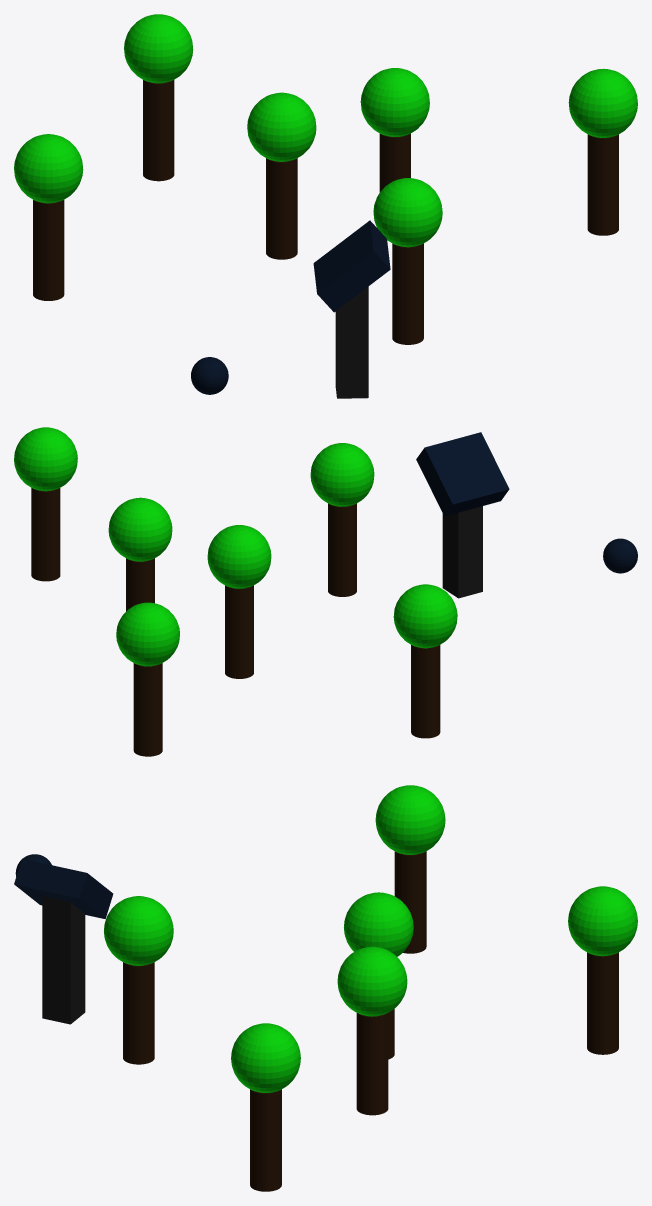
Rendered from exercise20049.obj.
The picture shows the model from 3 angles, top to bottom: view 1: azimuth 30°, elevation 25°; view 2: azimuth 150°, elevation 25°; view 3: azimuth 270°, elevation 25°; orthographic projection. The views are drawn at different scales.
Parts seen in each view (by area): view 1: Cube.001, Sphere.005, Sphere.002, Sphere.006, Sphere, Sphere.003, Sphere.004, Cube, Cylinder.002, Cylinder.003, Cylinder.005, Cylinder.004 (+4 smaller); view 2: Cube.001, Cube, Sphere, Sphere.005, Sphere.006, Sphere.003, Sphere.004, Sphere.002, Cylinder.003, Cylinder.005, Cylinder.006, Cylinder.002 (+4 smaller); view 3: Cube, Sphere, Sphere.006, Sphere.004, Sphere.005, Sphere.003, Sphere.002, Cube.001, Cylinder.004, Cylinder.003, Cylinder.005, Cylinder (+2 smaller).
Part boxes in pixels (box(x1,y1,x2,y2)): Cube.001: box(313, 220, 390, 312); Sphere.005: box(124, 14, 193, 83); Sphere.002: box(247, 92, 316, 161); Sphere.006: box(14, 134, 83, 203); Sphere: box(360, 68, 429, 136); Sphere.003: box(568, 68, 637, 137); Sphere.004: box(373, 178, 442, 247); Cube: box(335, 286, 368, 398); Cylinder.002: box(266, 158, 297, 259); Cylinder.003: box(587, 134, 618, 235); Cylinder.005: box(143, 80, 174, 181); Cylinder.004: box(392, 243, 423, 344); Cube.001: box(416, 432, 509, 516); Cube: box(442, 506, 482, 598); Sphere: box(108, 497, 172, 561); Sphere.005: box(116, 602, 179, 666); Sphere.006: box(393, 584, 457, 648); Sphere.003: box(14, 427, 77, 491); Sphere.004: box(310, 443, 374, 506); Sphere.002: box(207, 525, 271, 588); Cylinder.003: box(31, 488, 60, 581); Cylinder.005: box(133, 663, 162, 756); Cylinder.006: box(411, 645, 440, 738); Cylinder.002: box(225, 585, 253, 678); Cube: box(42, 896, 85, 1024); Sphere: box(337, 946, 407, 1016); Sphere.006: box(375, 785, 445, 854); Sphere.004: box(104, 896, 173, 965); Sphere.005: box(568, 886, 637, 956); Sphere.003: box(231, 1023, 300, 1092); Sphere.002: box(344, 892, 413, 956); Cube.001: box(14, 859, 113, 919); Cylinder.004: box(123, 962, 154, 1064); Cylinder.003: box(250, 1089, 281, 1191); Cylinder.005: box(587, 952, 618, 1054); Cylinder: box(356, 1013, 388, 1114).
Size of what is drawn, in the model's own units: 40.53 by 11.23 by 39.13.
